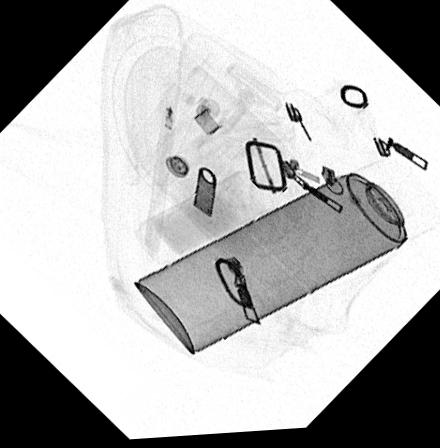Sprayer: (132, 158, 440, 356)
